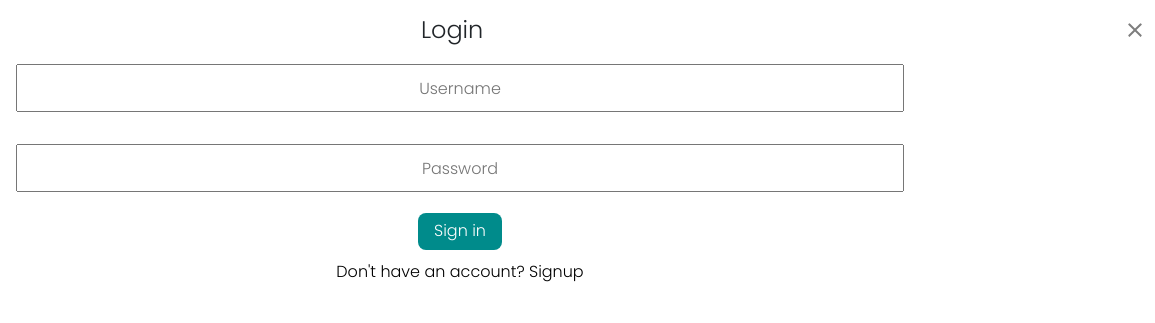
Test: Test LoginModalContent › Login fails on no inputs
This screenshot has width=1155, height=323.
Click the button "Sign in".
click(460, 231)  # box [418, 213, 502, 250]
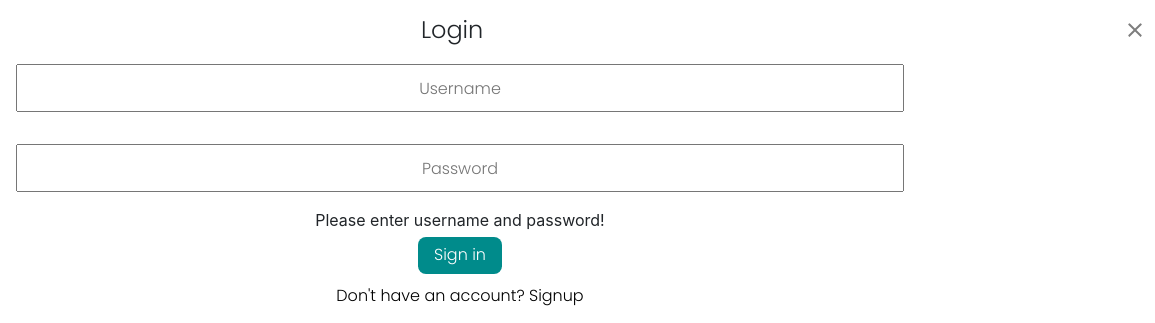
expect the text "Please enter username and password!" is shown: met, box [315, 210, 605, 230]
